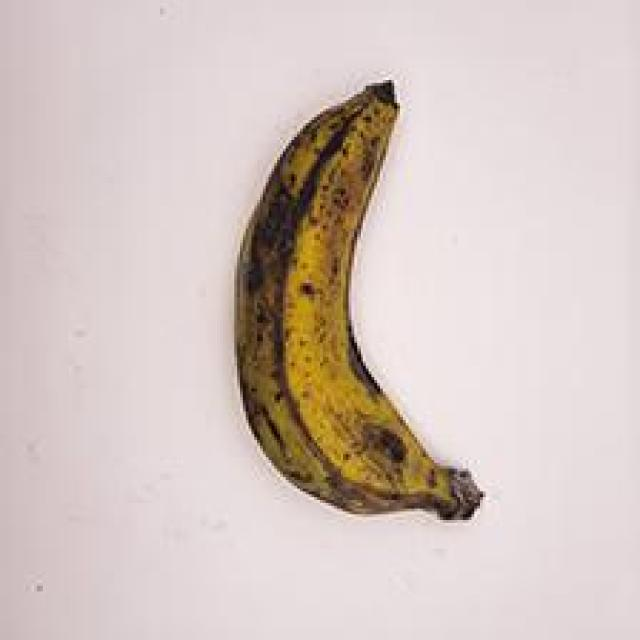Overripe: (216, 65, 507, 542)
